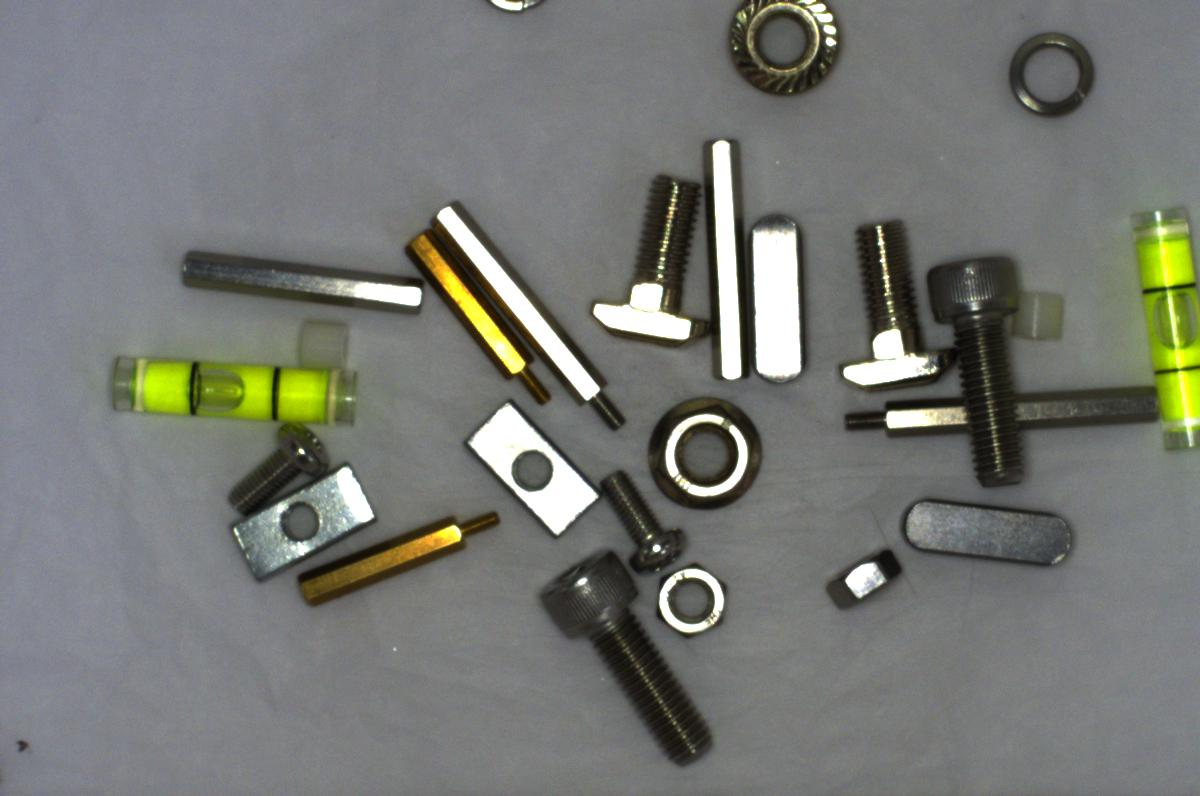Double hexagonal column: (170, 231, 429, 327), (693, 124, 757, 385)
Flange nut: (638, 392, 771, 518), (712, 1, 861, 108)
Hexagon nut: (814, 544, 908, 619), (647, 560, 732, 639)
Hexagon pillar: (407, 224, 550, 409), (298, 505, 500, 610)
Hexagon screw: (543, 550, 716, 771), (929, 233, 1043, 491)
Hexagonal steel column: (425, 208, 628, 431), (811, 383, 1158, 449)
Horizontal bubble: (103, 348, 369, 436), (1117, 186, 1197, 463)
Keybar: (884, 485, 1069, 565), (737, 205, 811, 390)
Plastic cushion pillar: (1005, 281, 1074, 356), (289, 317, 361, 367)
Rectangular nut: (471, 403, 602, 537), (219, 471, 379, 573)
Round head screw: (587, 458, 697, 578), (216, 421, 332, 518)
Spring washer: (1000, 28, 1098, 118)
T-shaped screw: (815, 200, 960, 390), (575, 162, 710, 353)
